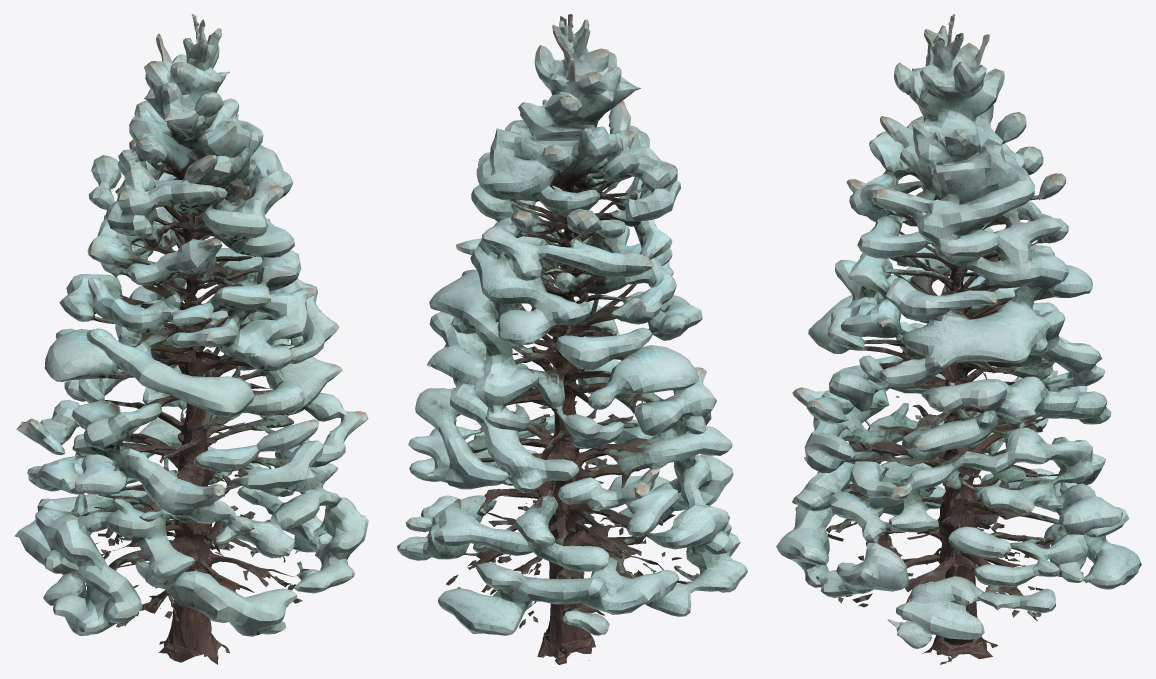
File: raw_meshy_model.glb
3 renders of one model, left to right at view 1: azimuth 30°, elevation 25°; view 2: azimuth 150°, elevation 25°; view 3: azimuth 270°, elevation 25°, orthographic.
Bounding box in the file's own units: 0.9336 × 1.89 × 0.9847.
Materials: 1 (1 with a texture image).
